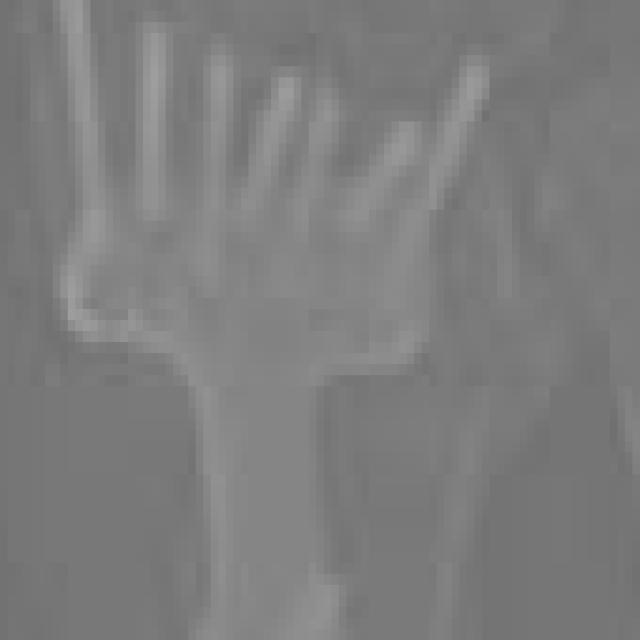fracture: (0, 0, 640, 635)
